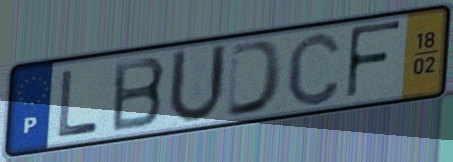B: (109, 54, 169, 135)
C: (284, 29, 344, 109)
D: (223, 37, 286, 120)
F: (343, 18, 404, 103)
L: (56, 67, 101, 139)
U: (165, 41, 230, 127)
